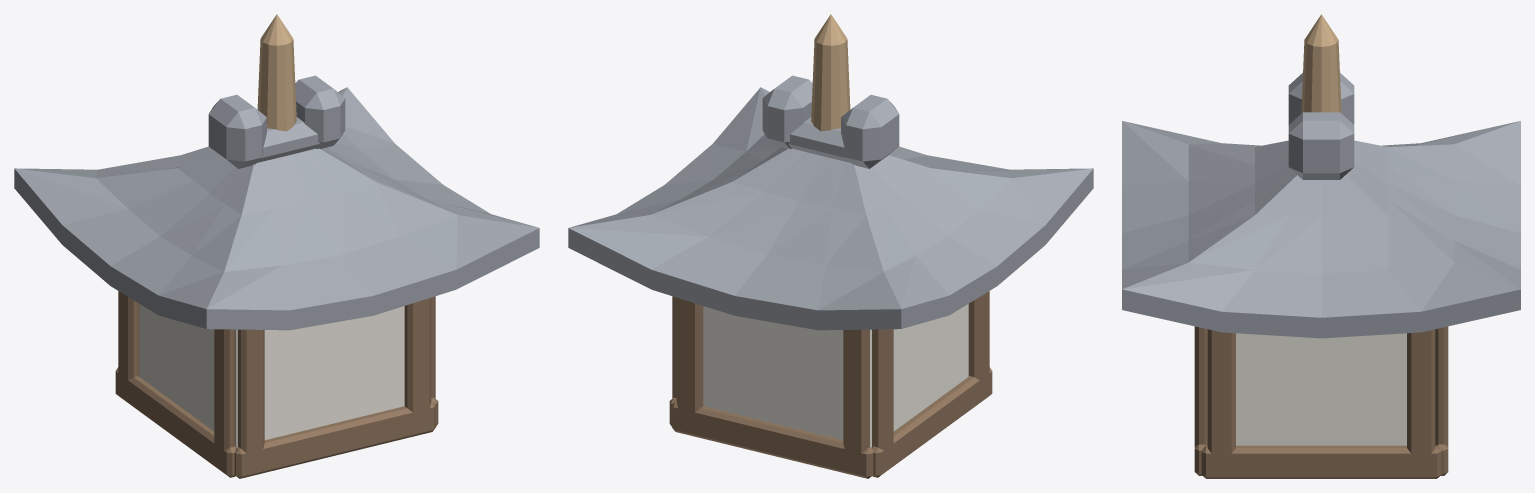
The model's file is feudal-japan-castle-town-pagoda-top-tier-1e194d3c__26396.glb.
3 renders of one model, left to right at view 1: azimuth 30°, elevation 25°; view 2: azimuth 150°, elevation 25°; view 3: azimuth 270°, elevation 25°, orthographic. The views are drawn at different scales.
Visible parts, largest first — view 1: pagoda-top-tier; view 2: pagoda-top-tier; view 3: pagoda-top-tier.
Boxes of the visible parts, box(x1,y1,x2,y2) form: pagoda-top-tier: box(14, 14, 539, 478); pagoda-top-tier: box(568, 14, 1093, 478); pagoda-top-tier: box(1122, 14, 1520, 478).
Bounding box in the file's own units: 2.8 × 3.2 × 2.8.
